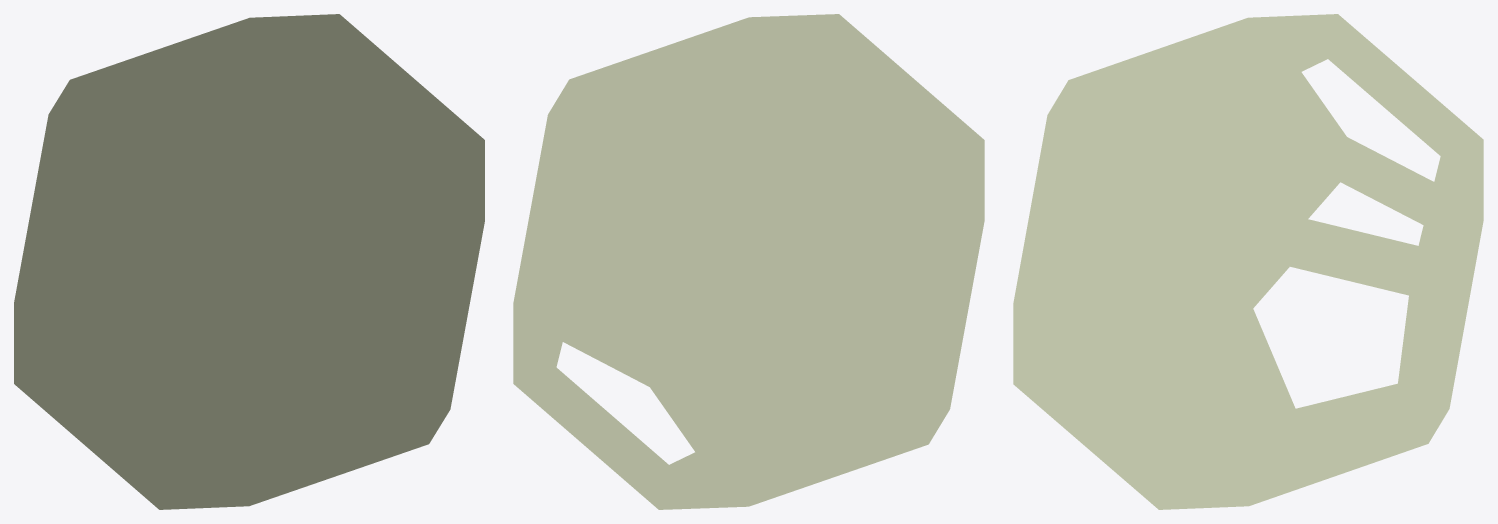
Rendered from pod_01.dae.
3 renders of one model, left to right at view 1: azimuth 30°, elevation 25°; view 2: azimuth 150°, elevation 25°; view 3: azimuth 270°, elevation 25°, orthographic.
Visible parts, largest first — view 1: dodecahedron3-0; view 2: dodecahedron3-0; view 3: dodecahedron3-0.
Part boxes in pixels (left/top/right/bottom): dodecahedron3-0: left=14, top=14, right=484, bottom=509; dodecahedron3-0: left=513, top=14, right=984, bottom=509; dodecahedron3-0: left=1013, top=14, right=1483, bottom=509.
Size of the model in its own units: 2.62 by 2.8 by 2.44.
